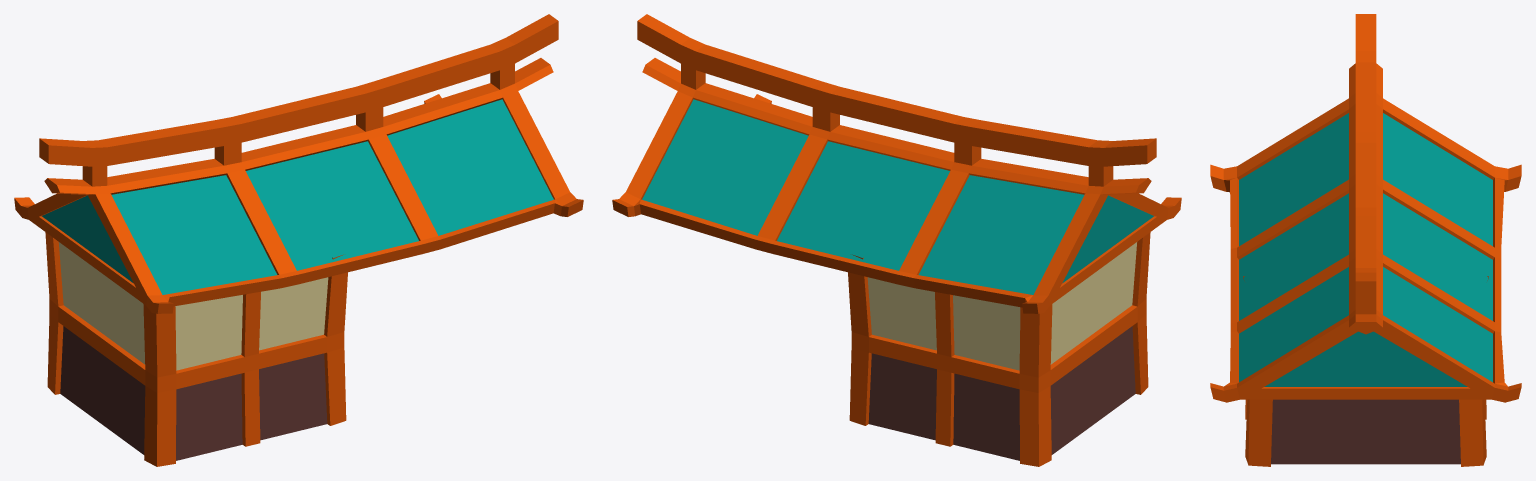
Rendered from GEO_hut_small_1.fbx.
The picture shows the model from 3 angles, left to right: view 1: azimuth 30°, elevation 25°; view 2: azimuth 150°, elevation 25°; view 3: azimuth 270°, elevation 25°; orthographic projection. The views are drawn at different scales.
Visible parts, largest first — view 1: GEO_hut_small_1; view 2: GEO_hut_small_1; view 3: GEO_hut_small_1.
Boxes of the visible parts, x1,y1,x2,y2 form: GEO_hut_small_1: (14, 14, 583, 466); GEO_hut_small_1: (612, 14, 1181, 466); GEO_hut_small_1: (1210, 14, 1521, 466).
Bounding box in the file's own units: 873 × 490 × 429.
